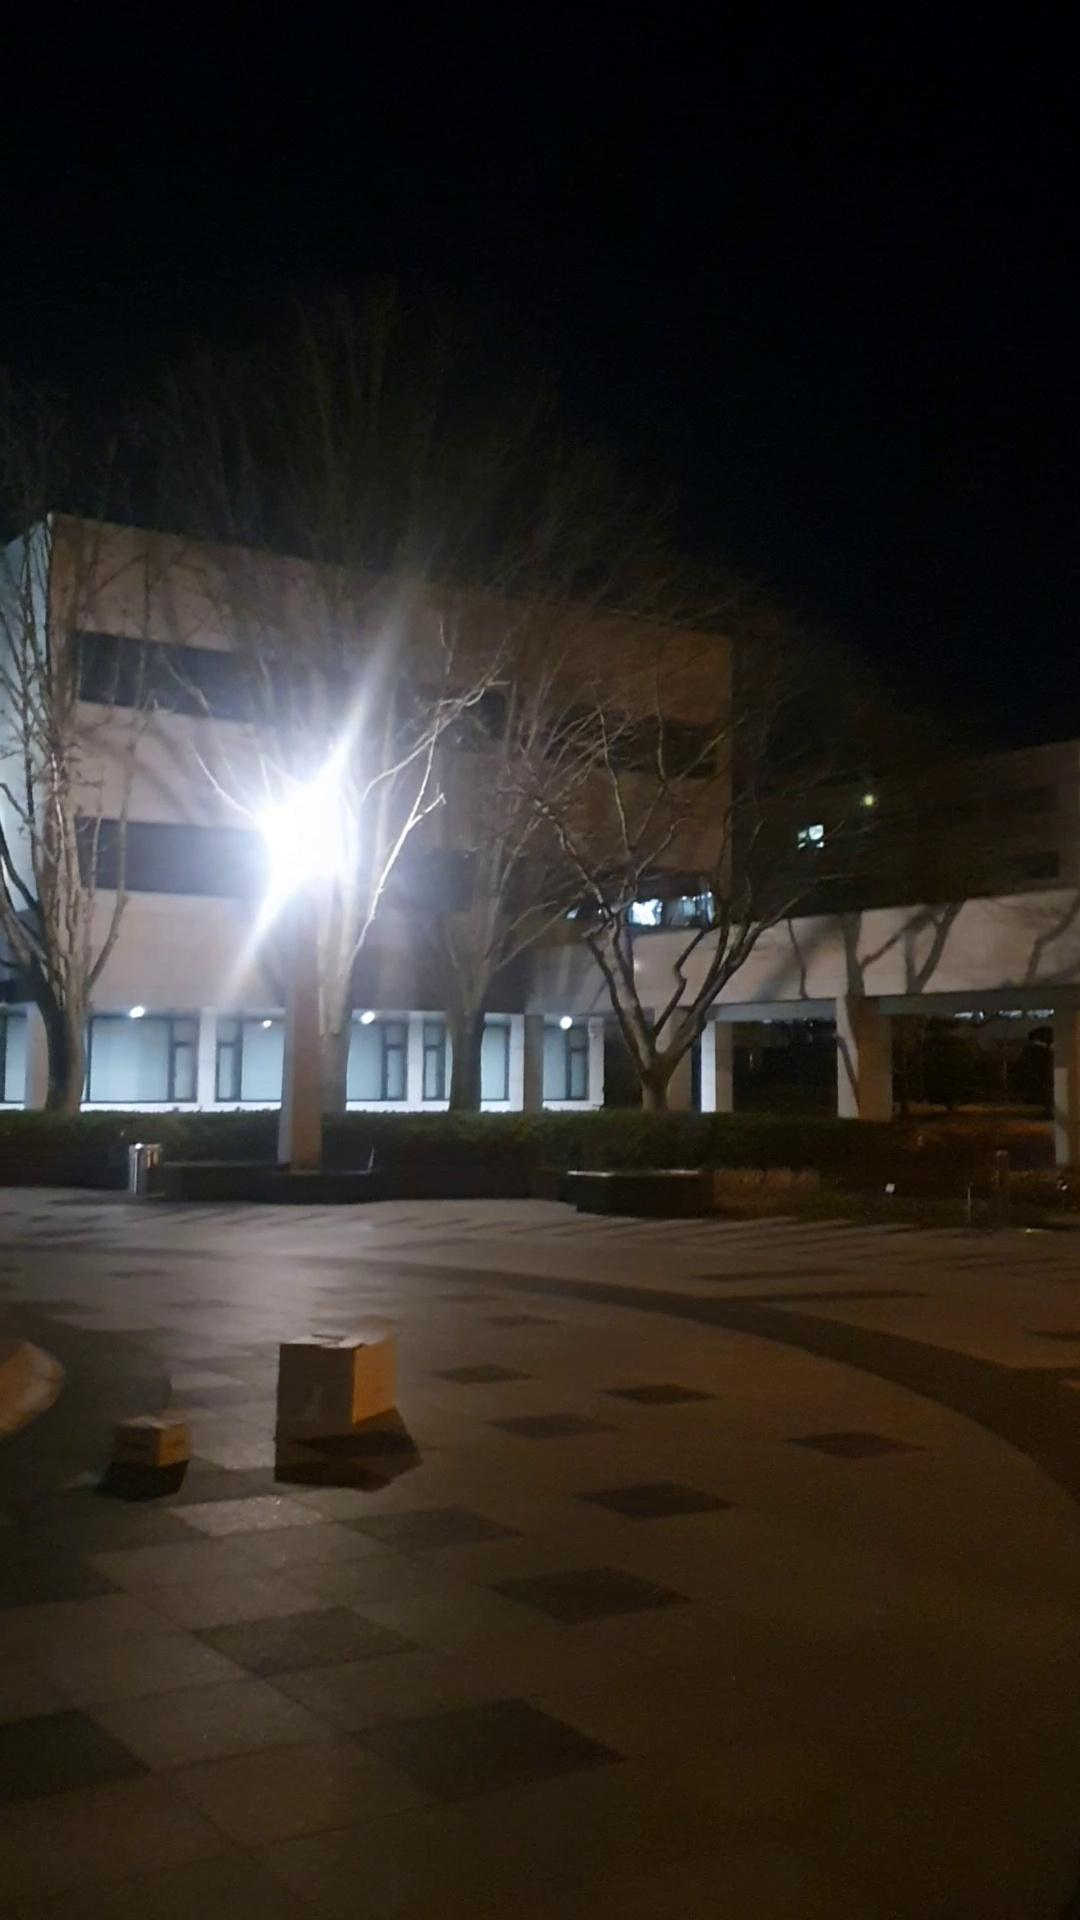Box: (276, 1320, 398, 1447), (108, 1410, 187, 1462)
